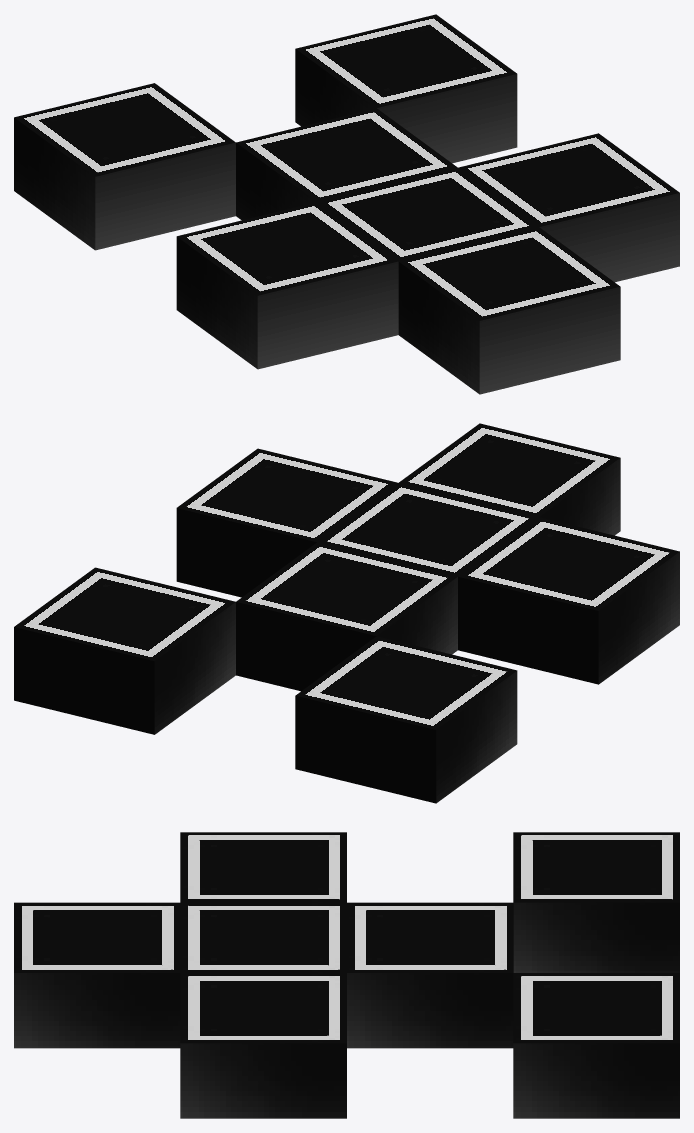
File: car.glb
3 renders of one model, top to bottom at view 1: azimuth 30°, elevation 25°; view 2: azimuth 150°, elevation 25°; view 3: azimuth 270°, elevation 25°, orthographic. The views are drawn at different scales.
Parts seen in each view (by area): view 1: Car; view 2: Car; view 3: Car.
Part boxes in pixels (<box>): Car: <box>14,14,679,394</box>; Car: <box>14,423,679,803</box>; Car: <box>14,832,679,1118</box>.
Bounding box in the file's own units: 6 × 1 × 8.
Materials: 1 (1 with a texture image).
